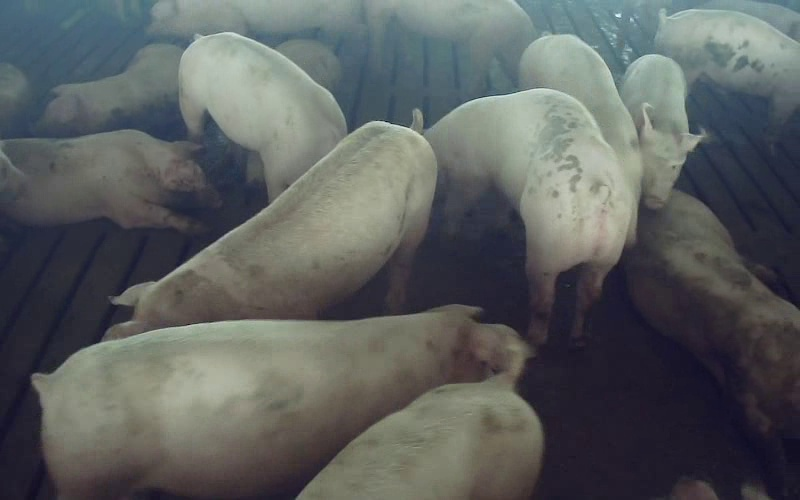pig: (104, 111, 436, 338), (425, 89, 636, 343), (625, 191, 799, 437), (298, 354, 542, 499), (179, 32, 346, 200), (519, 34, 642, 242), (2, 130, 218, 232), (655, 9, 799, 133), (366, 0, 536, 96), (36, 44, 182, 136), (620, 54, 702, 209), (148, 0, 362, 38)
